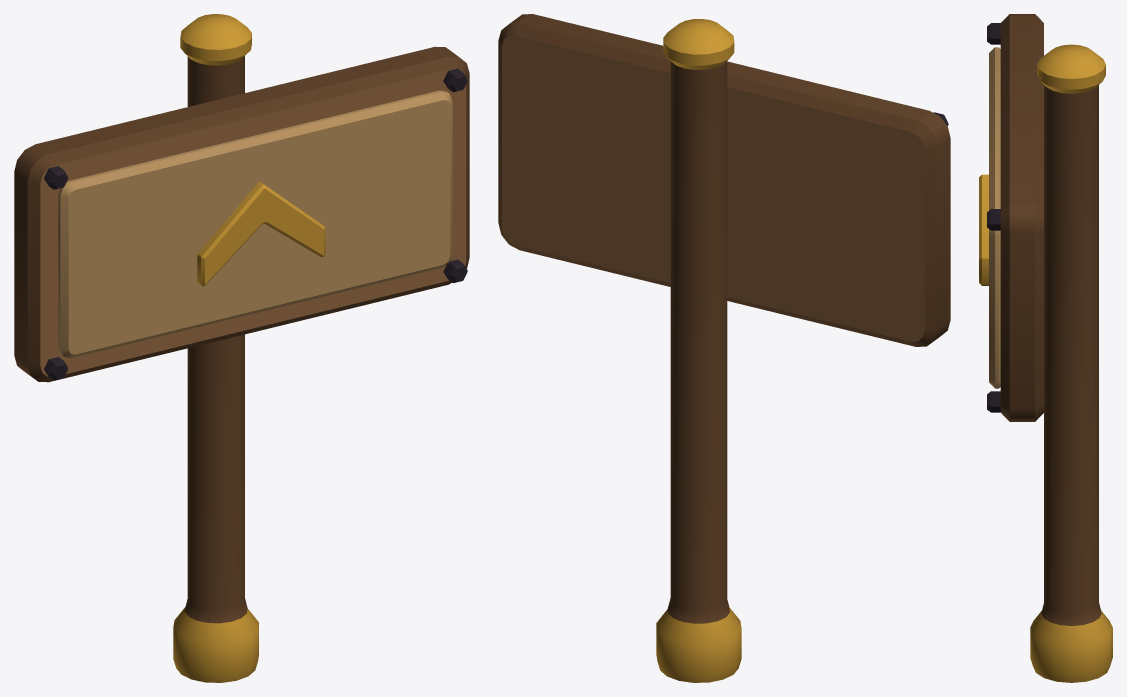
Rendered from Sign_32.glb.
3 views of the same model, side by side, from view 1: azimuth 30°, elevation 25°; view 2: azimuth 150°, elevation 25°; view 3: azimuth 270°, elevation 25° (orthographic). The views are drawn at different scales.
Visible parts, largest first — view 1: Sign_32; view 2: Sign_32; view 3: Sign_32.
Part boxes in pixels (box(x1,y1,x2,y2)): Sign_32: box(14, 14, 469, 682); Sign_32: box(498, 14, 950, 682); Sign_32: box(979, 14, 1112, 682).
Bounding box in the file's own units: 2.48 × 3.46 × 0.68.
